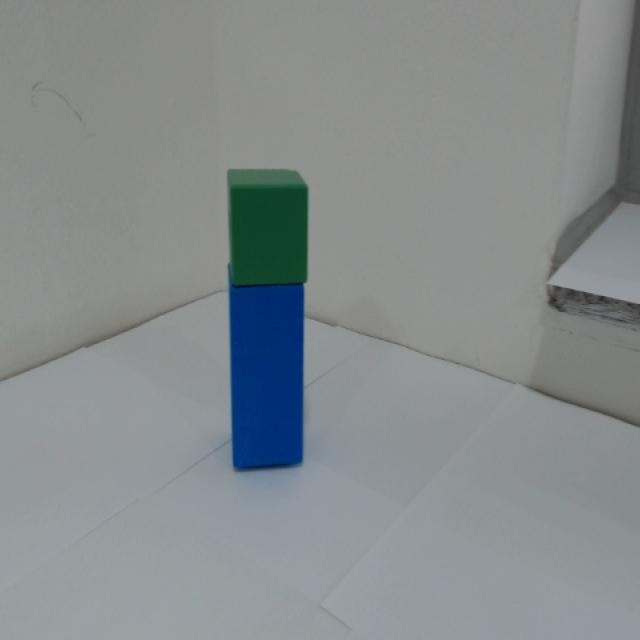cube: (227, 166, 313, 284)
